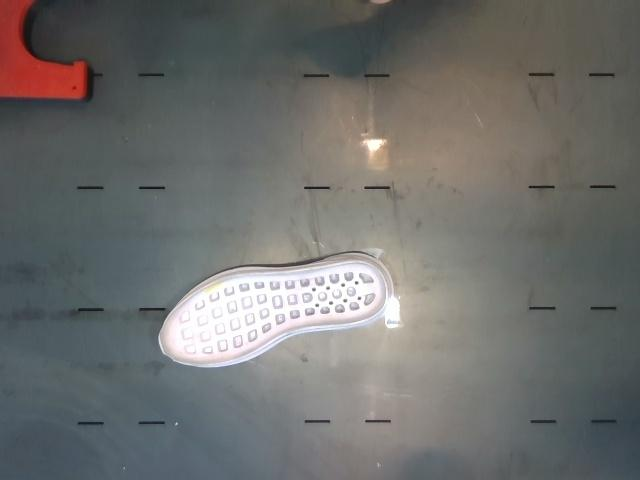shoes: (159, 262, 385, 365)
